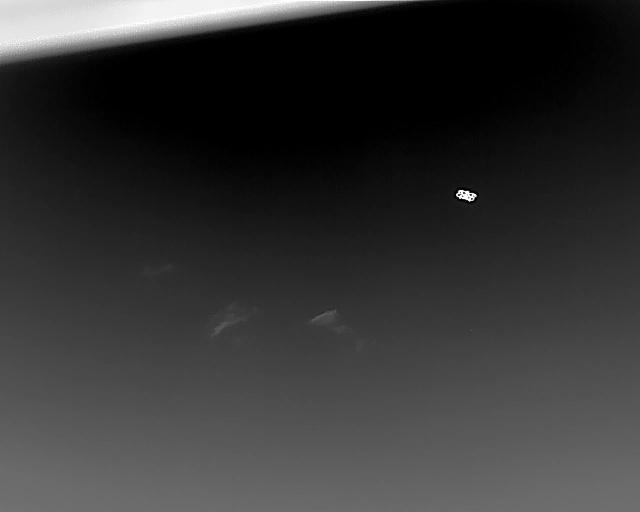fpv-drone: (455, 189, 476, 202)
